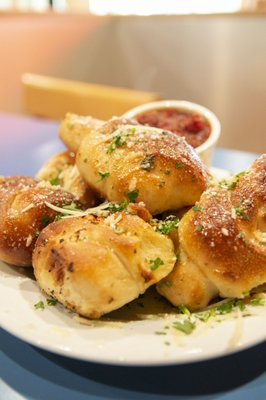sushi: (116, 99, 222, 167)
